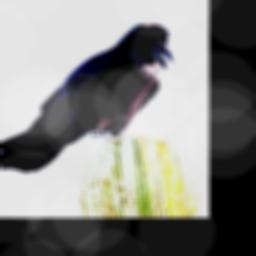Crow: (0, 23, 172, 173)
